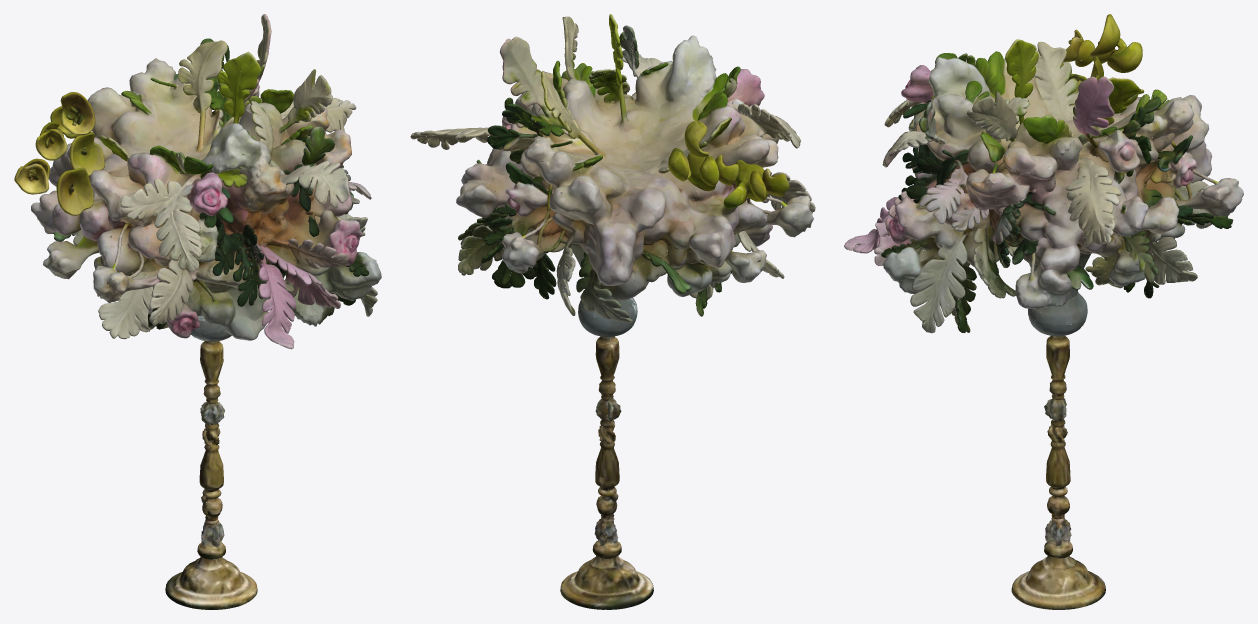
File: gul2.glb
3 renders of one model, left to right at view 1: azimuth 30°, elevation 25°; view 2: azimuth 150°, elevation 25°; view 3: azimuth 270°, elevation 25°, orthographic.
Parts seen in each view (by area): view 1: gul; view 2: gul; view 3: gul.
Part boxes in pixels (left/top/right/bottom): gul: left=14, top=14, right=381, bottom=609; gul: left=410, top=14, right=815, bottom=609; gul: left=844, top=14, right=1243, bottom=609.
Bounding box in the file's own units: 0.6661 × 0.9795 × 0.6348.
Materials: 1 (1 with a texture image).
